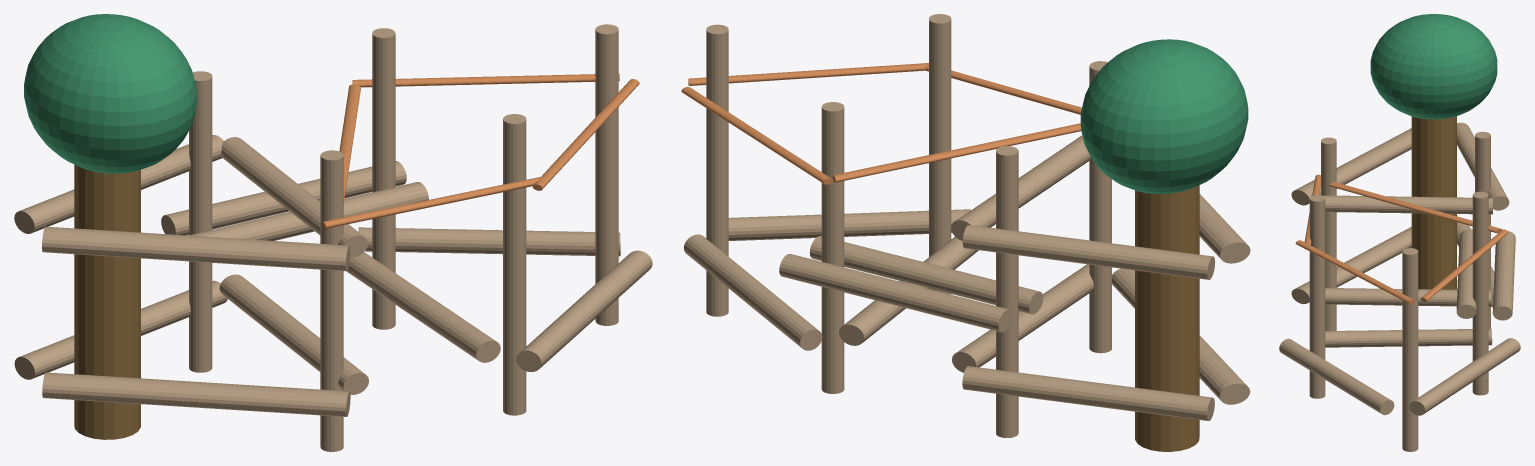
Rendered from Magnificent Gogo.glb.
3 views of the same model, side by side, from view 1: azimuth 30°, elevation 25°; view 2: azimuth 150°, elevation 25°; view 3: azimuth 270°, elevation 25° (orthographic). The views are drawn at different scales.
Visible parts, largest first — view 1: Mesh_Mesh_head_geo.001_lambert2SG.001; view 2: Mesh_Mesh_head_geo.001_lambert2SG.001; view 3: Mesh_Mesh_head_geo.001_lambert2SG.001.
Part boxes in pixels (bbox=[...]): Mesh_Mesh_head_geo.001_lambert2SG.001: bbox=[14, 14, 652, 451]; Mesh_Mesh_head_geo.001_lambert2SG.001: bbox=[681, 14, 1250, 451]; Mesh_Mesh_head_geo.001_lambert2SG.001: bbox=[1279, 14, 1520, 451].
Bounding box in the file's own units: 203 × 132 × 107.
